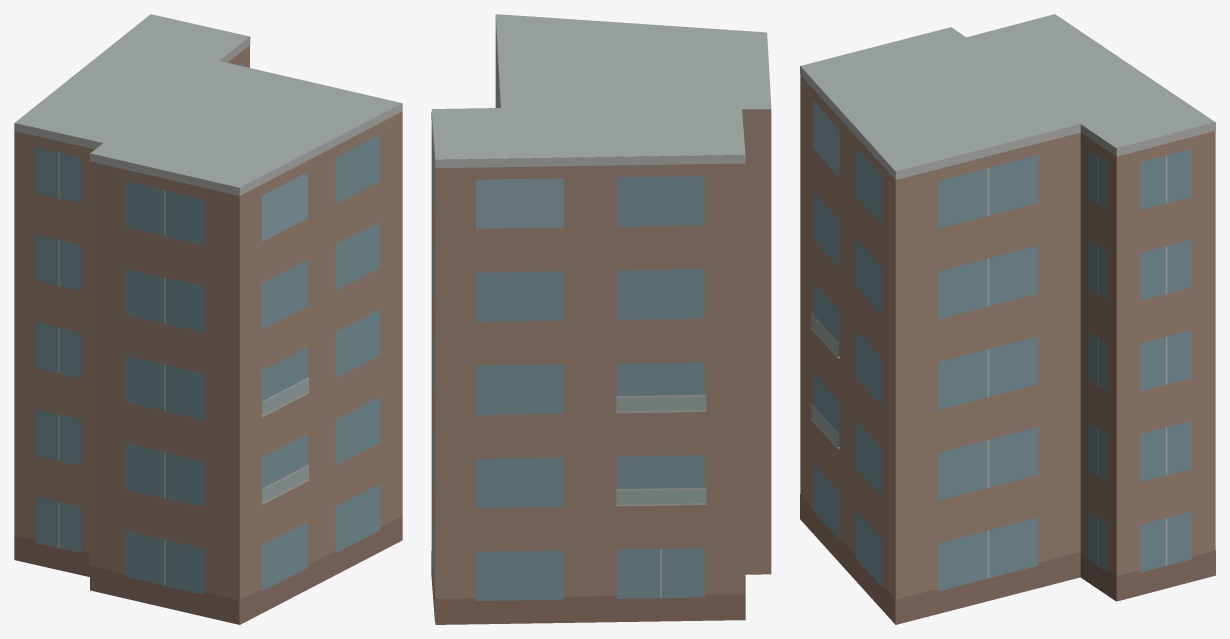
The model's file is survey-upis-32689518.glb.
3 renders of one model, left to right at view 1: azimuth 30°, elevation 25°; view 2: azimuth 150°, elevation 25°; view 3: azimuth 270°, elevation 25°, orthographic. The views are drawn at different scales.
Visible parts, largest first — view 1: survey-upis-32689518.tmp; view 2: survey-upis-32689518.tmp; view 3: survey-upis-32689518.tmp.
Boxes of the visible parts, bbox=[...] form: survey-upis-32689518.tmp: bbox=[14, 14, 402, 624]; survey-upis-32689518.tmp: bbox=[431, 14, 771, 624]; survey-upis-32689518.tmp: bbox=[800, 14, 1215, 624].
Bounding box in the file's own units: 9.78 × 13.1 × 10.89.
